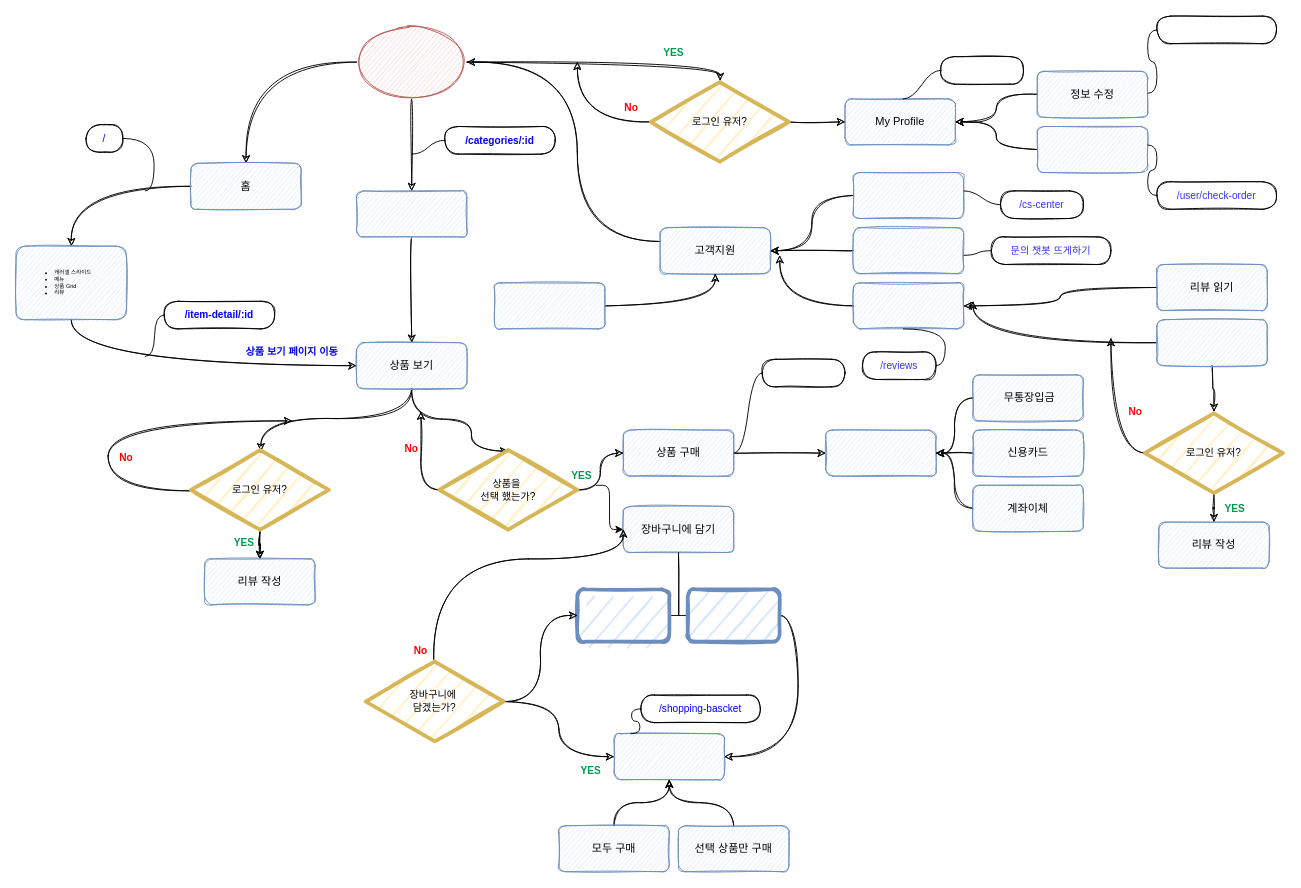
Some shapes in this 1301 by 888 pixel diagram are drawn without their labels. The shapes that lost their labels are listed below. From the top down, each one's centre as x and y in pixels, then its label:
(x=1216, y=29): /user/modify-profile
(x=411, y=61): TS-SHOP
(x=982, y=70): /user/me
(x=1092, y=149): 주문 조회
(x=411, y=213): 카테고리 메뉴
(x=908, y=195): 고객센터
(x=908, y=250): 문의하기
(x=549, y=305): 공지사항
(x=908, y=305): 고객리뷰
(x=1211, y=342): 리뷰 쓰기
(x=803, y=372): /purchase
(x=880, y=452): 구매 페이지
(x=623, y=615): 동일삼품이 장바구니에 있는 경우
(x=733, y=615): 장바구니에 처음 담기는 경우
(x=668, y=756): 장바구니 페이지
